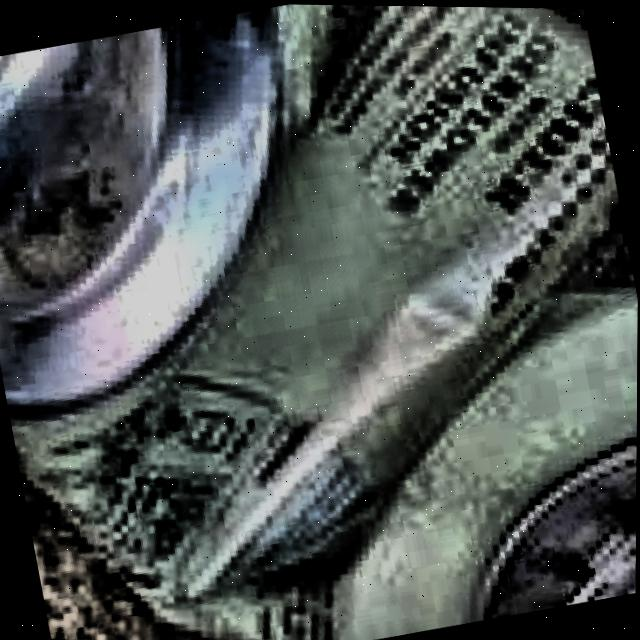metal: (0, 3, 638, 640)
